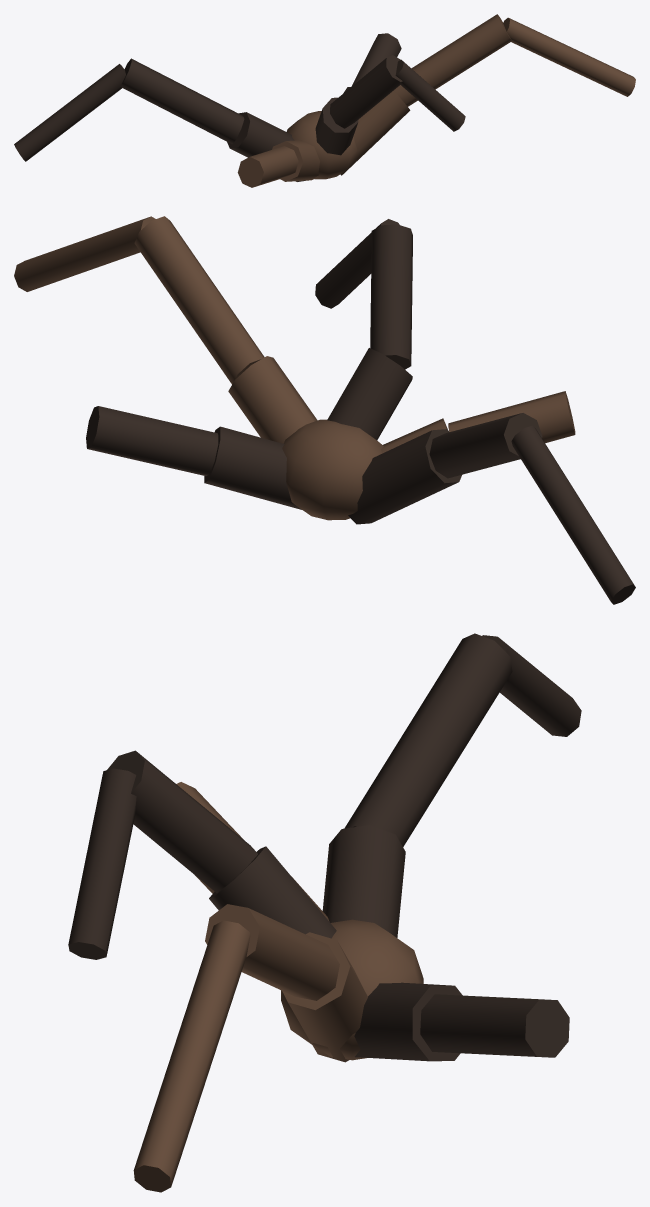
File: root_tangle.glb
The picture shows the model from 3 angles, top to bottom: view 1: azimuth 30°, elevation 25°; view 2: azimuth 150°, elevation 25°; view 3: azimuth 270°, elevation 25°; orthographic projection. The views are drawn at different scales.
Parts seen in each view (by area): view 1: root_tangle; view 2: root_tangle; view 3: root_tangle.
Boxes of the visible parts, x1,y1,x2,y2 form: root_tangle: (14, 14, 635, 187); root_tangle: (14, 216, 635, 604); root_tangle: (68, 633, 581, 1192).
Bounding box in the file's own units: 2.8 × 0.8 × 1.2.
1 material, 1 textured.
